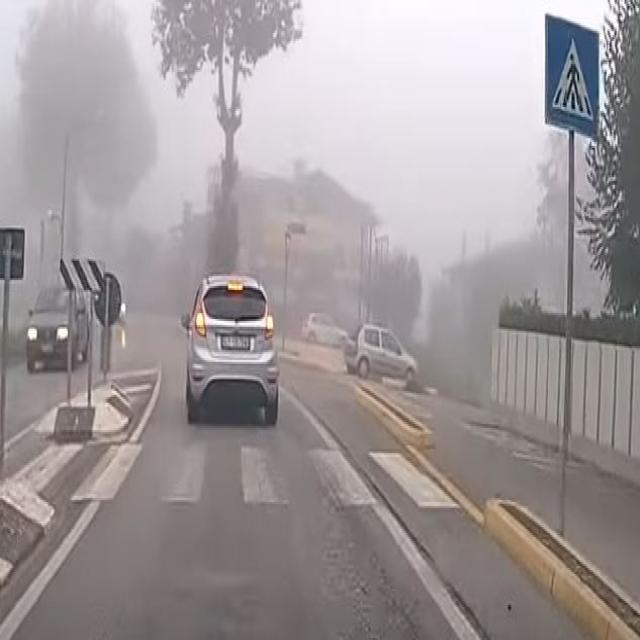Car: (182, 271, 280, 424)
Pedestrian crosswalk: (11, 440, 463, 510), (548, 16, 597, 130)
